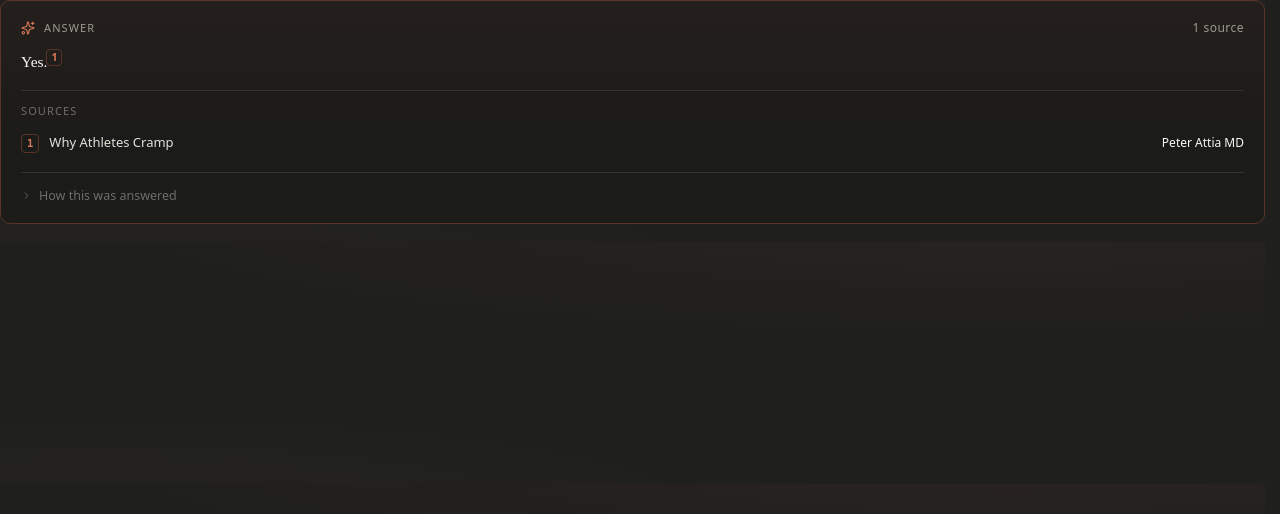
Scenario: AnswerPanel trace › opens on click and closes again
The image size is (1280, 514).
Step 1. Click the button "How this was answered" → (99, 196), box [21,187,177,205]
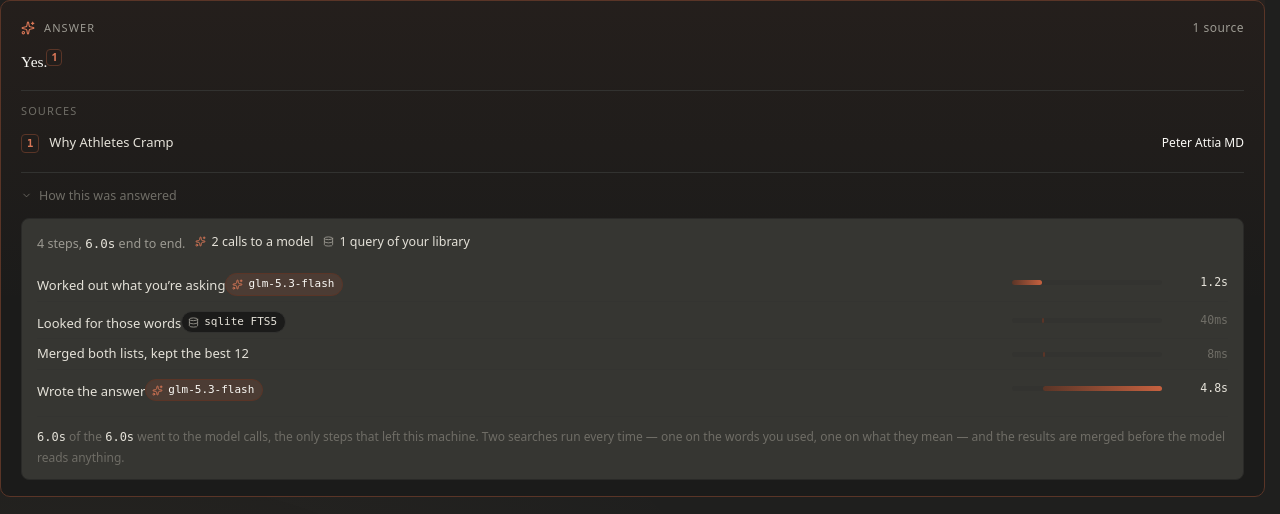
Check: the number of elements with class "trace-row" is 4, box [37,264,1228,301]; [37,301,1228,338]; [37,338,1228,369]; [37,369,1228,406]
Step 2. Click the button "How this was answered" → (99, 196), box [21,187,177,205]
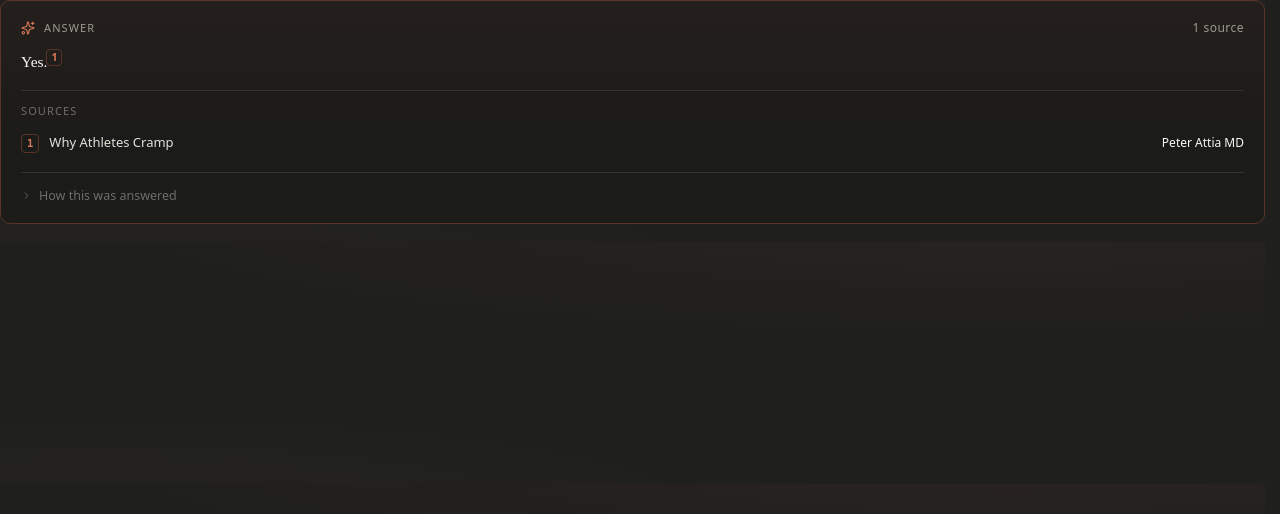
Check: the element with class "trace-body" is gone
